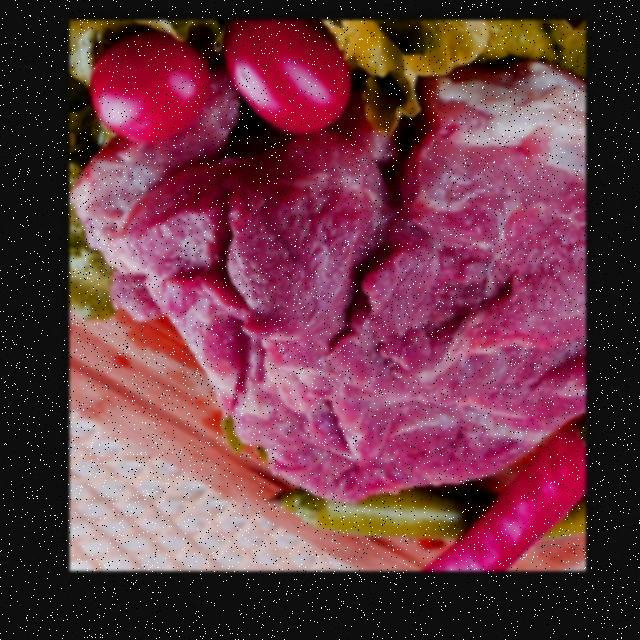pork: (117, 53, 583, 499), (66, 81, 240, 322)
